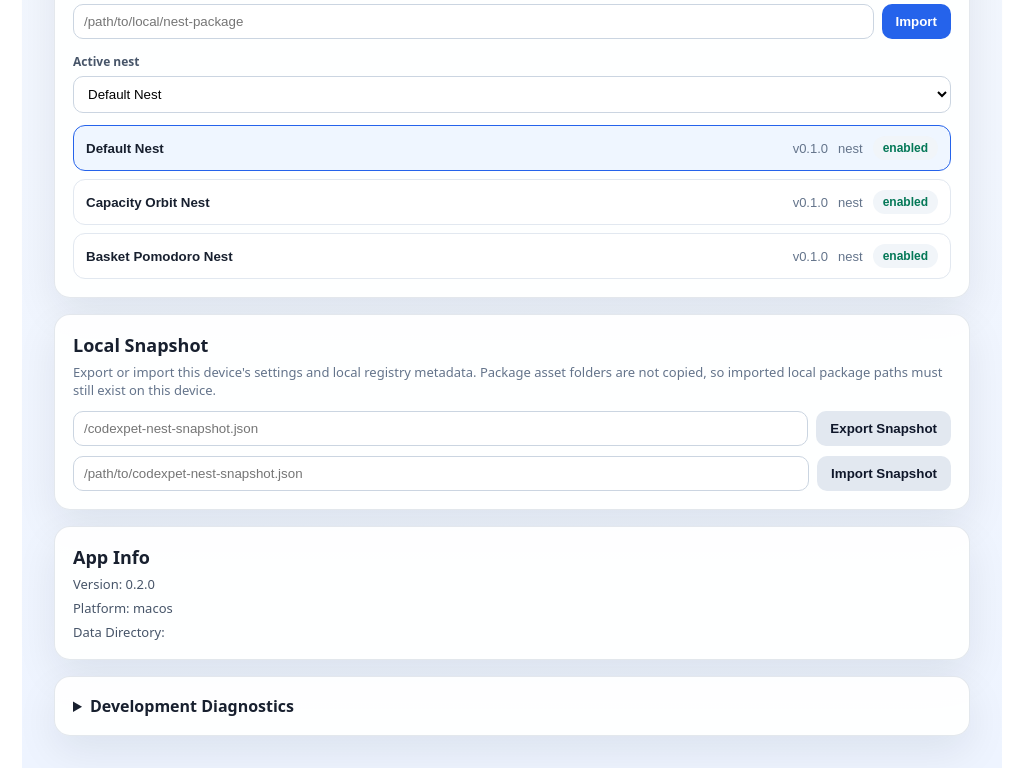
Scenario: SettingsApp › should export local settings and registry snapshot
(page scrolled)
Type "/tmp/codexpet-nest-snapshot.json" into the field named "Local snapshot export path" at (441, 428), box top-left (73, 411), bottom-right (808, 446)
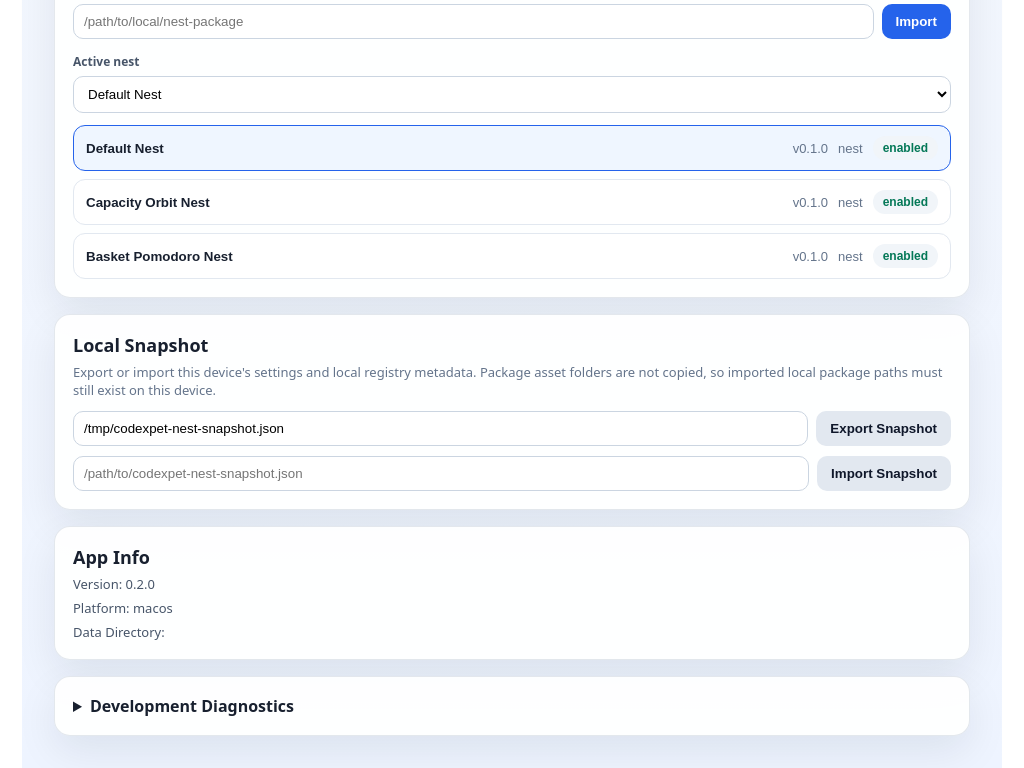
Click the button "Export Snapshot" at (884, 428), box top-left (816, 411), bottom-right (951, 446)
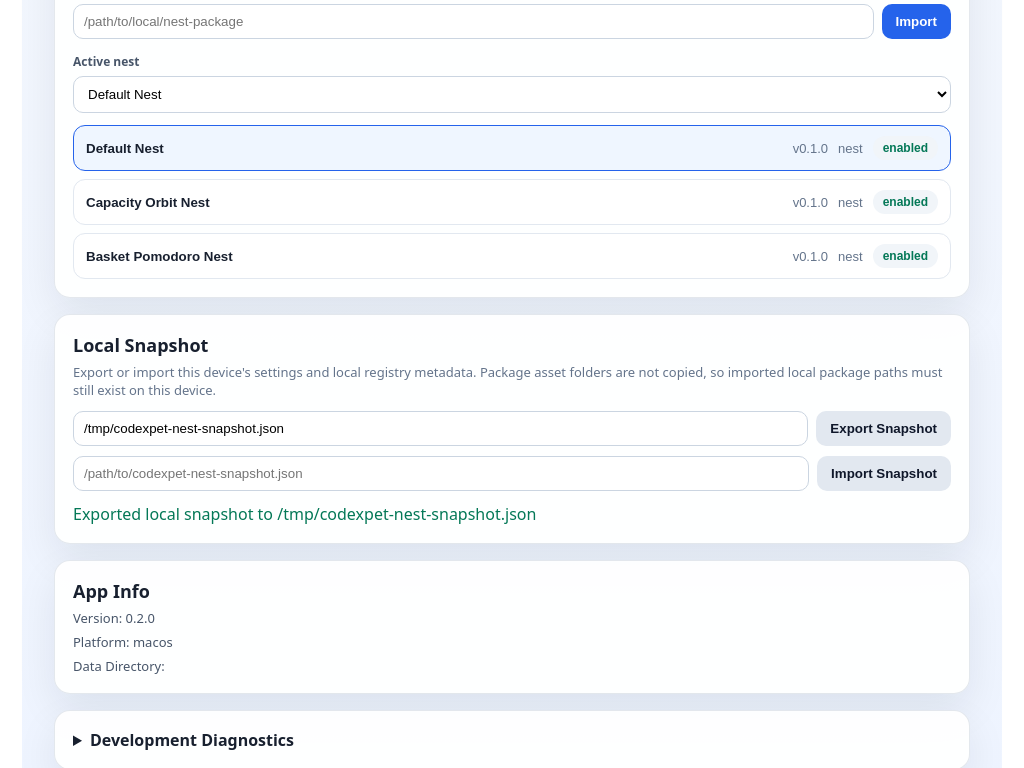
expect the message shows "Exported local snapshot": met, box top-left (73, 503), bottom-right (536, 525)
